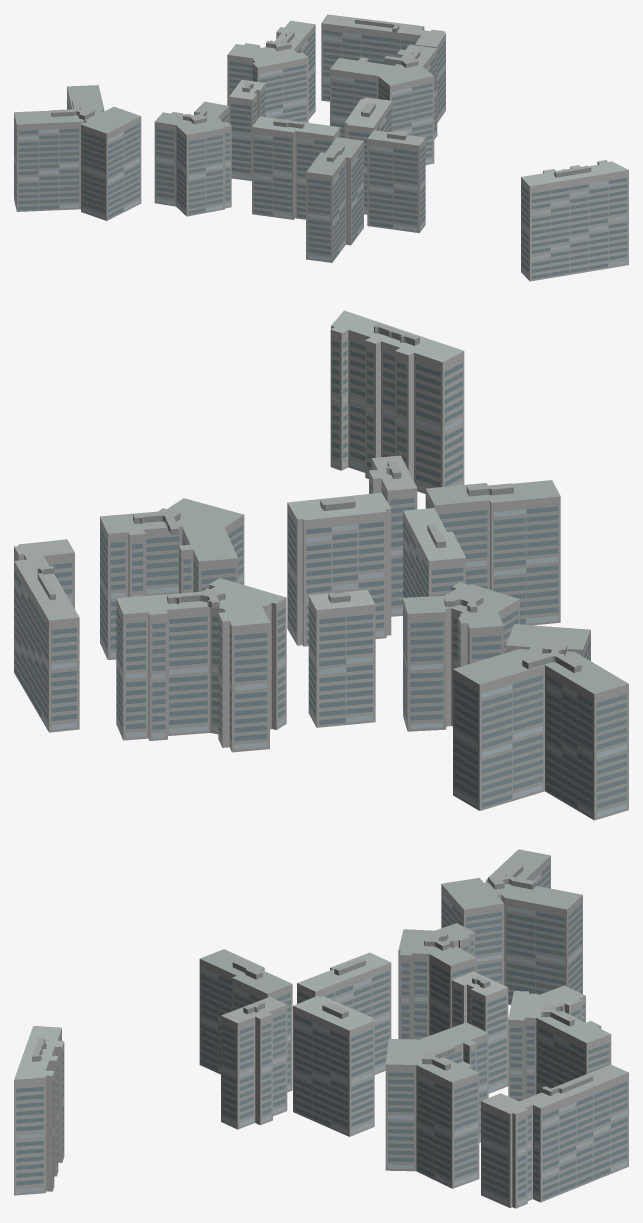
The model's file is apt-a13677101.glb.
3 views of the same model, one above another, from view 1: azimuth 30°, elevation 25°; view 2: azimuth 150°, elevation 25°; view 3: azimuth 270°, elevation 25° (orthographic). The views are drawn at different scales.
Visible parts, largest first — view 1: apt-a13677101; view 2: apt-a13677101; view 3: apt-a13677101.
Boxes of the visible parts, <box> form: apt-a13677101: <box>14,14,628,281</box>; apt-a13677101: <box>14,310,628,820</box>; apt-a13677101: <box>14,849,628,1208</box>.
Bounding box in the file's own units: 215 × 47.81 × 220.
